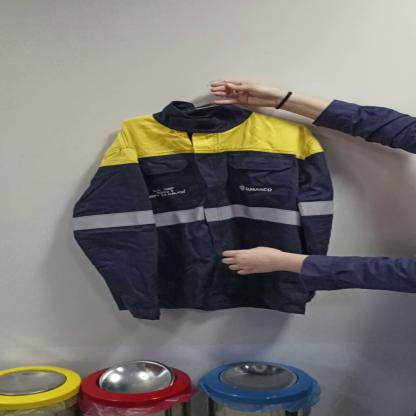C_eletrica: (69, 100, 343, 318)
